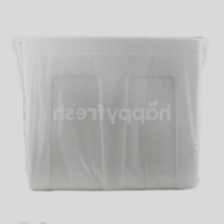foam_box: (10, 25, 212, 194)
